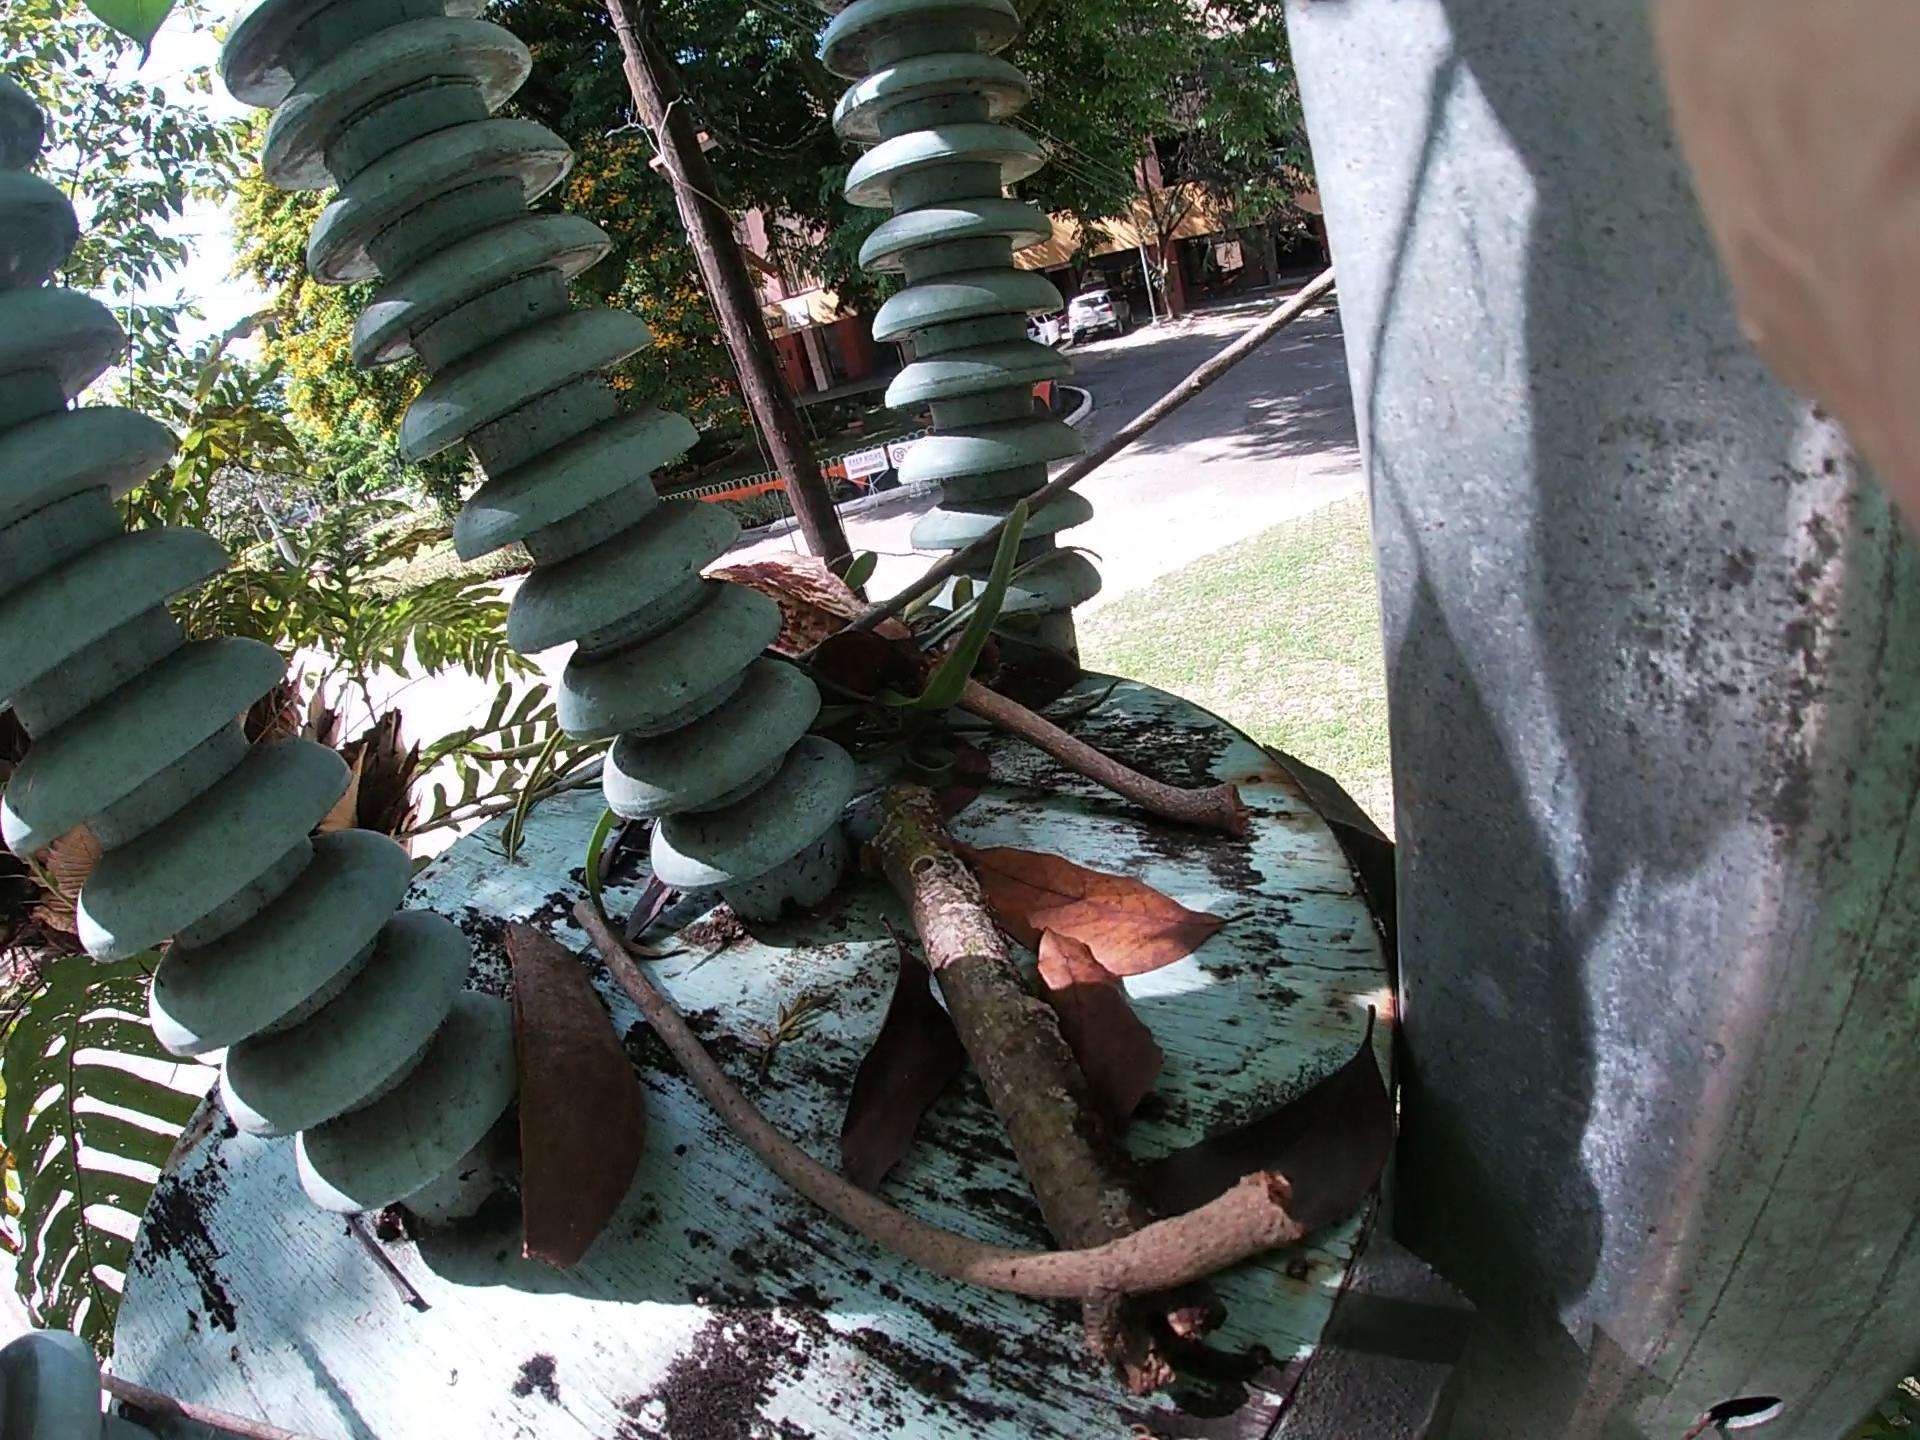branch with leaves: (770, 546, 1240, 1404)
leaf: (848, 781, 1241, 1213)
tree branch: (514, 791, 1352, 1299), (783, 225, 1516, 746), (720, 570, 1323, 782)
